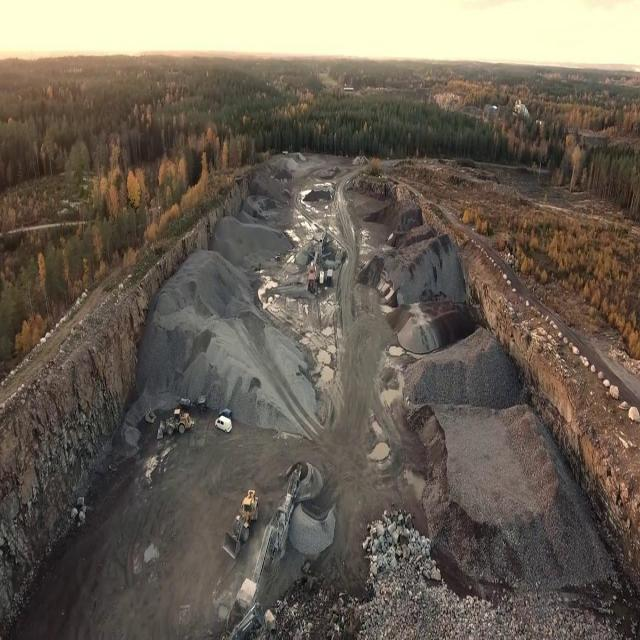Excavator: (305, 247, 322, 295)
Loader: (219, 487, 261, 561), (155, 407, 195, 443)
